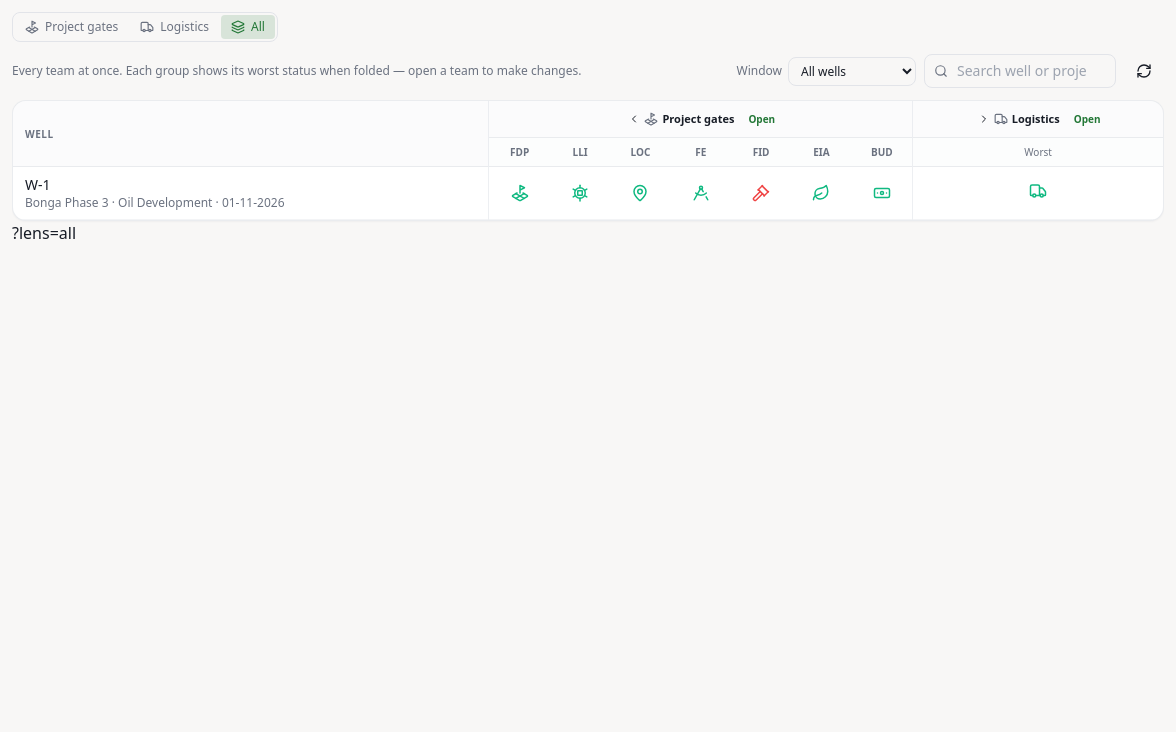
Scenario: ReadinessTab — a team's view (spec §8.8) › the All grid's Open lands on the team's Wells view; a lens change drops the view
The width and height of the screenshot is (1176, 732).
// The All grid's rows are wells, so Open shows the team's wells.
Click the button with aria-label "Unfold Logistics" at (1019,119), box left=972, top=107, right=1066, bottom=131
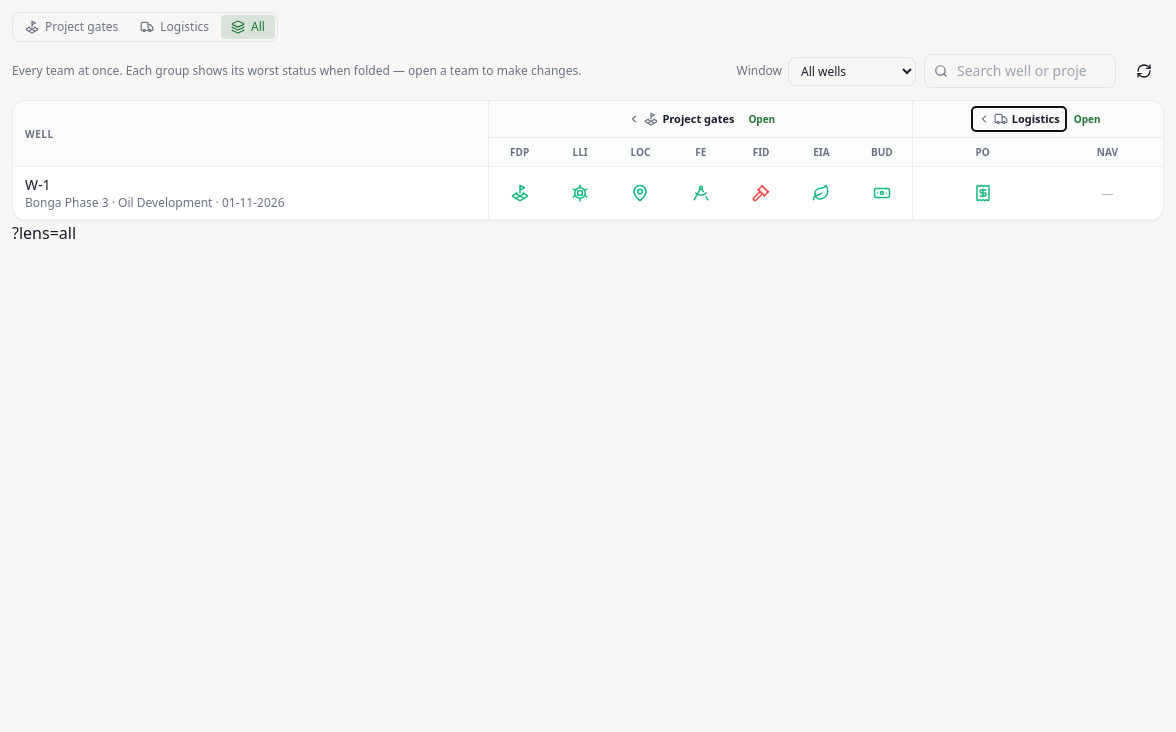
Click the 2nd button "Open" at (1087,119), box left=1070, top=109, right=1104, bottom=129
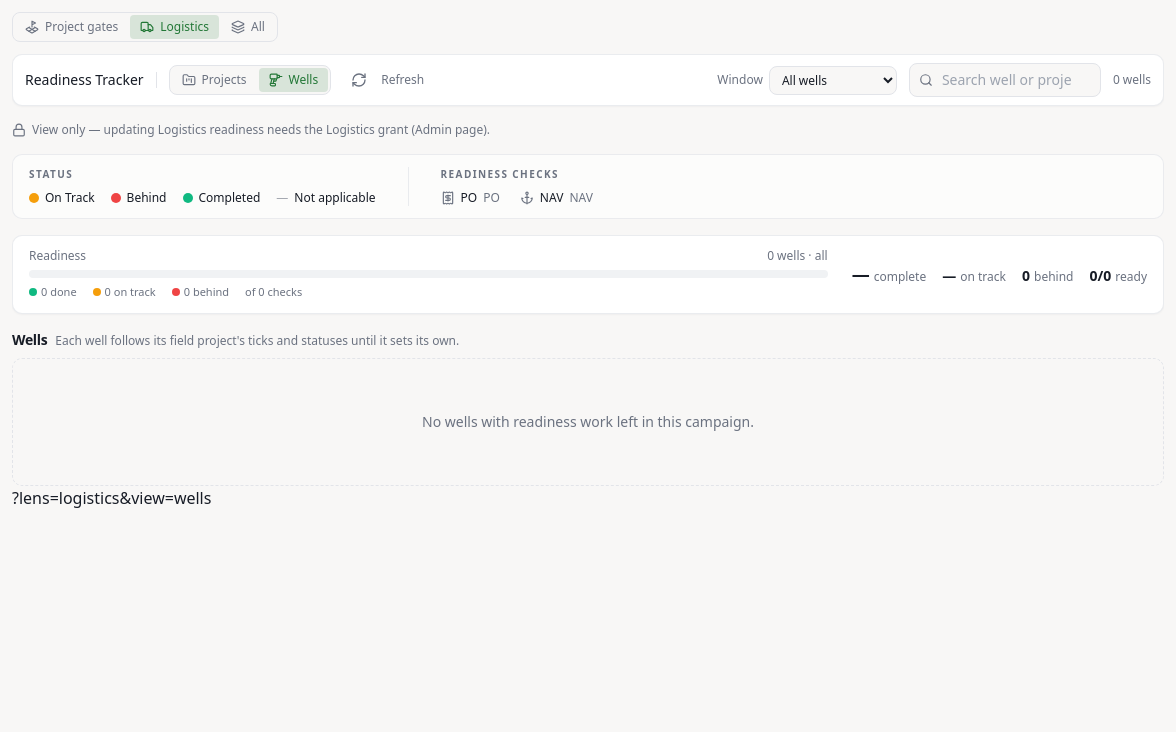
Expected: the element "Wells" is shown, left=12, top=330, right=1164, bottom=486
Expected: the text with test id "location" shows "lens=logistics&view=wells", left=12, top=486, right=211, bottom=508
// A lens change drops the view — it belonged to that team…
Click the radio button labelled "Project gates" at (72,27), box left=15, top=15, right=128, bottom=39
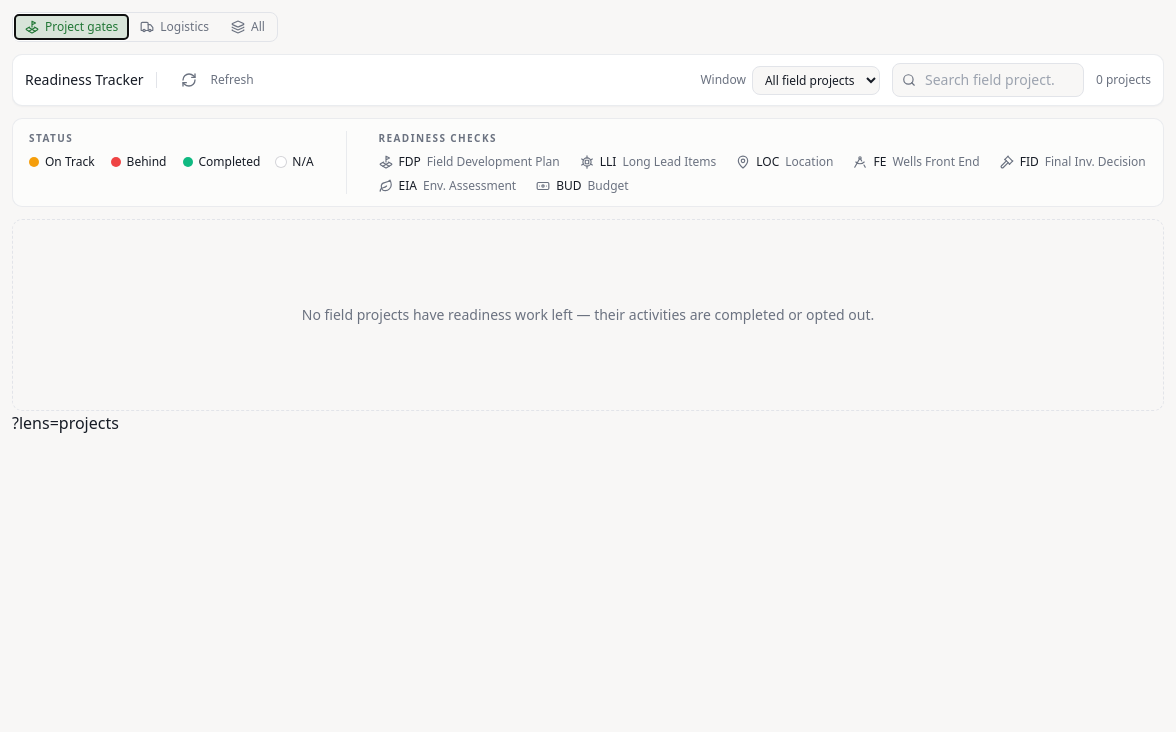
Expected: the text with test id "location" no longer shows "view="
// …so the team opens on its own view next time: Projects by default.
Click the radio button labelled "Logistics" at (175,27), box left=130, top=15, right=219, bottom=39
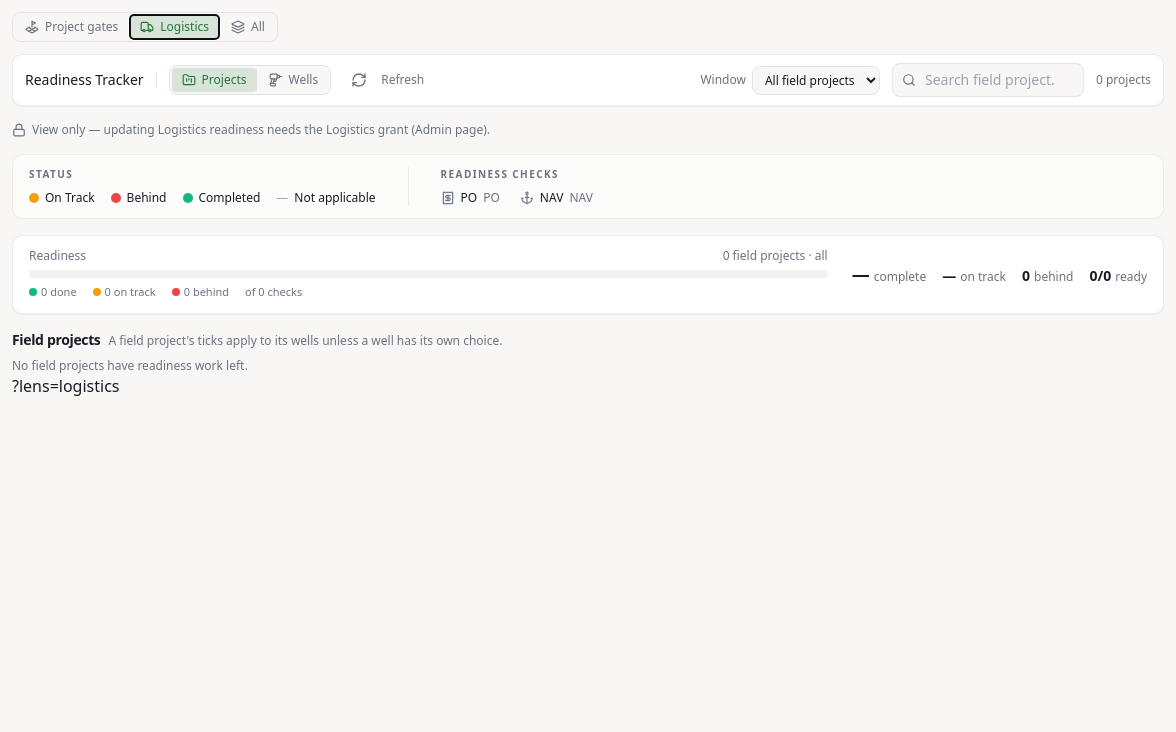
Expected: the element "Field projects" is shown, left=12, top=330, right=502, bottom=374
